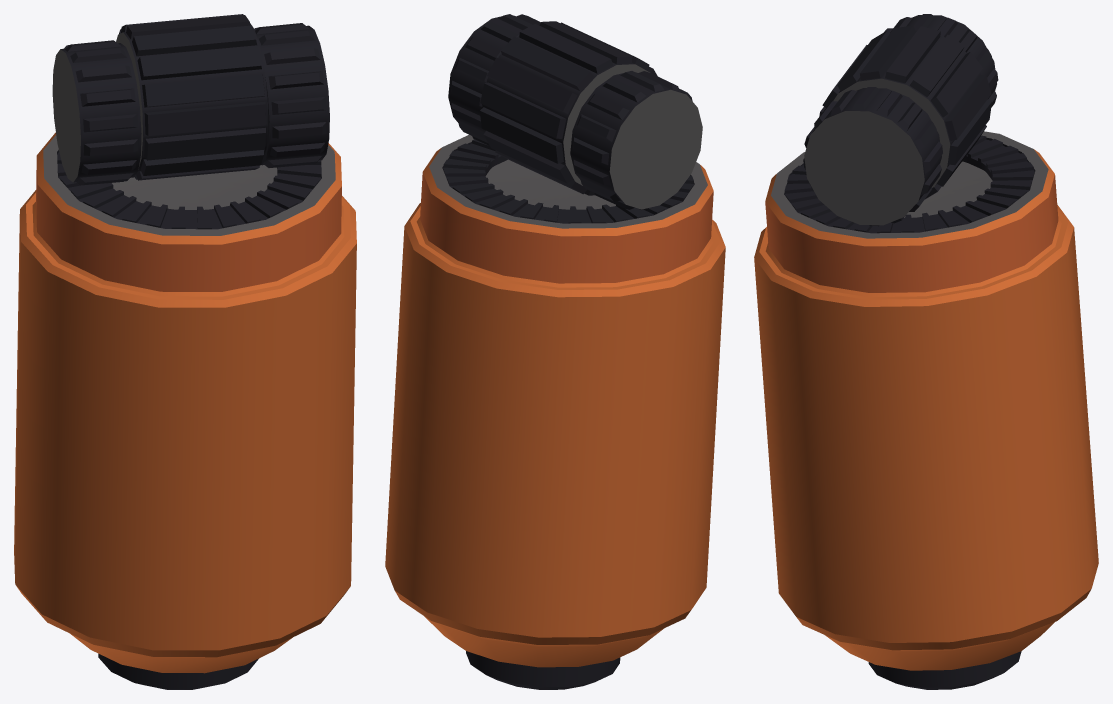
File: r_leg.glb
The picture shows the model from 3 angles, left to right: view 1: azimuth 30°, elevation 25°; view 2: azimuth 150°, elevation 25°; view 3: azimuth 270°, elevation 25°; orthographic projection. The views are drawn at different scales.
Parts seen in each view (by area): view 1: r_leg; view 2: r_leg; view 3: r_leg.
Boxes of the visible parts, x1=… form: r_leg: x1=14, y1=14, x2=356, y2=689; r_leg: x1=385, y1=14, x2=725, y2=689; r_leg: x1=754, y1=14, x2=1098, y2=689.
Bounding box in the file's own units: 0.5034 × 1.04 × 0.5283.
